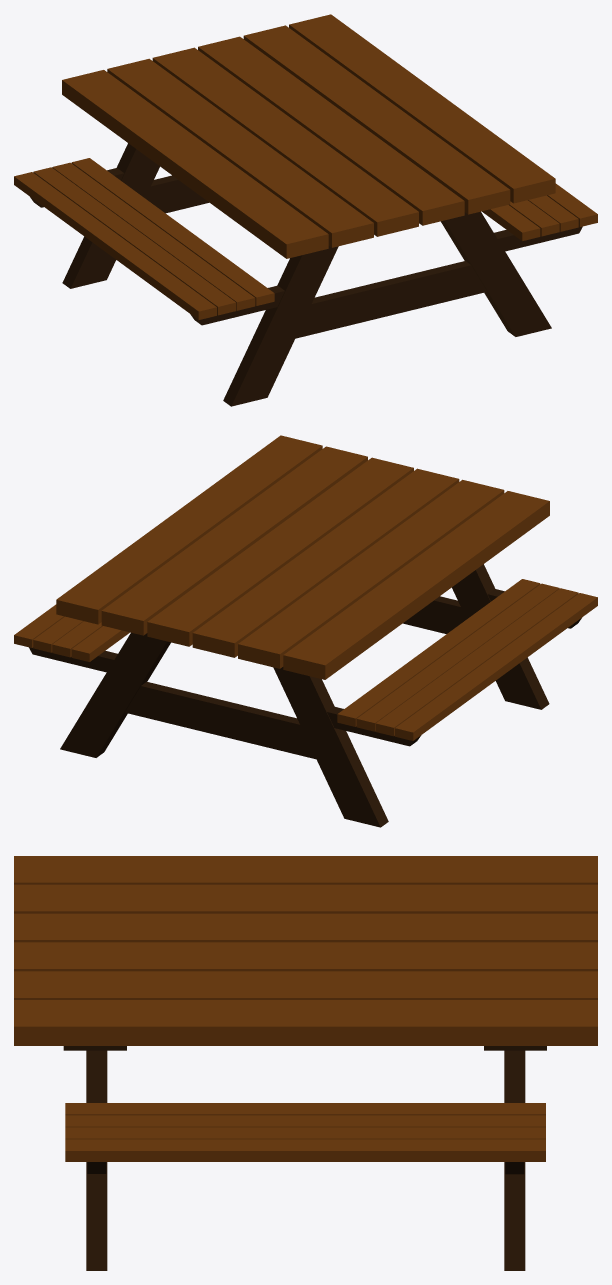
The model's file is GardenWoodTables.glb.
3 views of the same model, one above another, from view 1: azimuth 30°, elevation 25°; view 2: azimuth 150°, elevation 25°; view 3: azimuth 270°, elevation 25° (orthographic). The views are drawn at different scales.
Parts seen in each view (by area): view 1: Cube_003; view 2: Cube_003; view 3: Cube_003.
Part boxes in pixels (<box>): Cube_003: <box>14,14,597,406</box>; Cube_003: <box>14,435,597,827</box>; Cube_003: <box>14,856,597,1270</box>.
Size of the model in its own units: 0.0513 by 0.0216 by 0.05.
